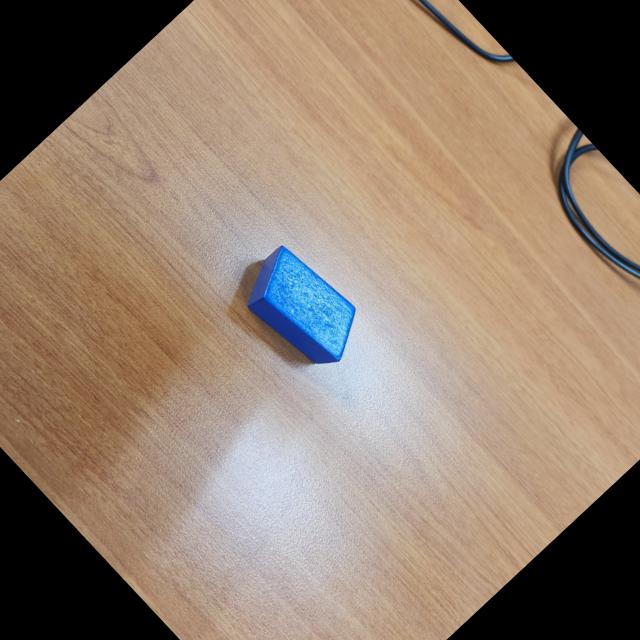blue: (232, 236, 376, 382)
